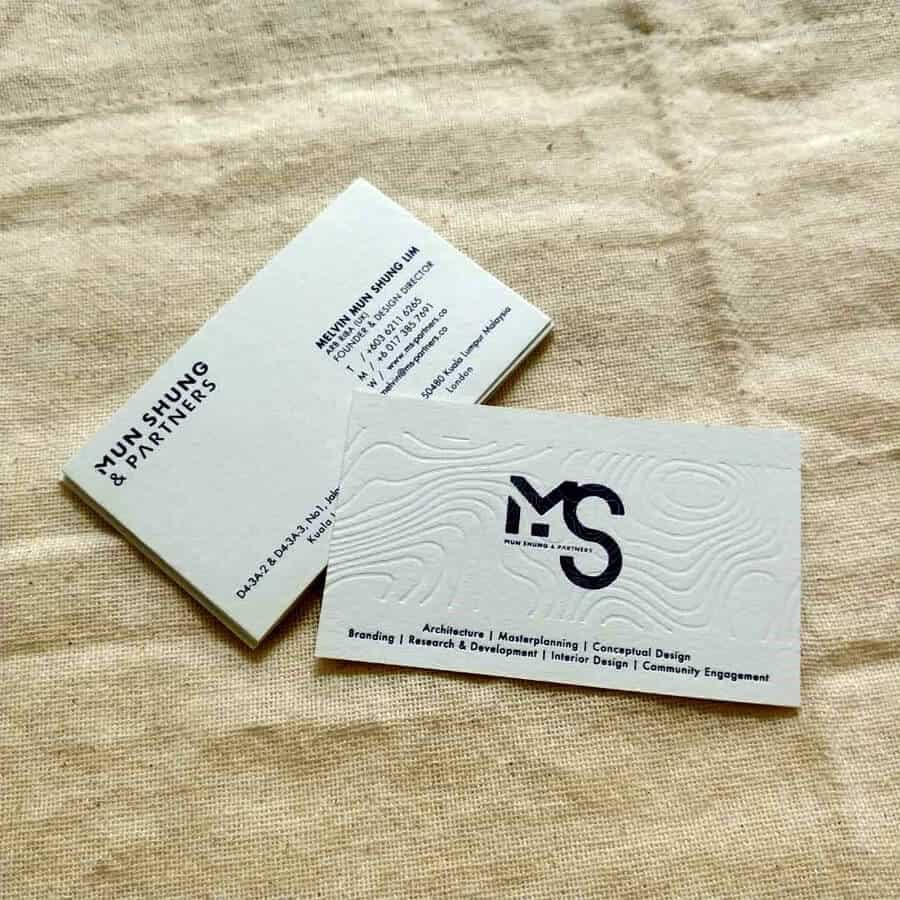paper: (54, 177, 806, 722)
